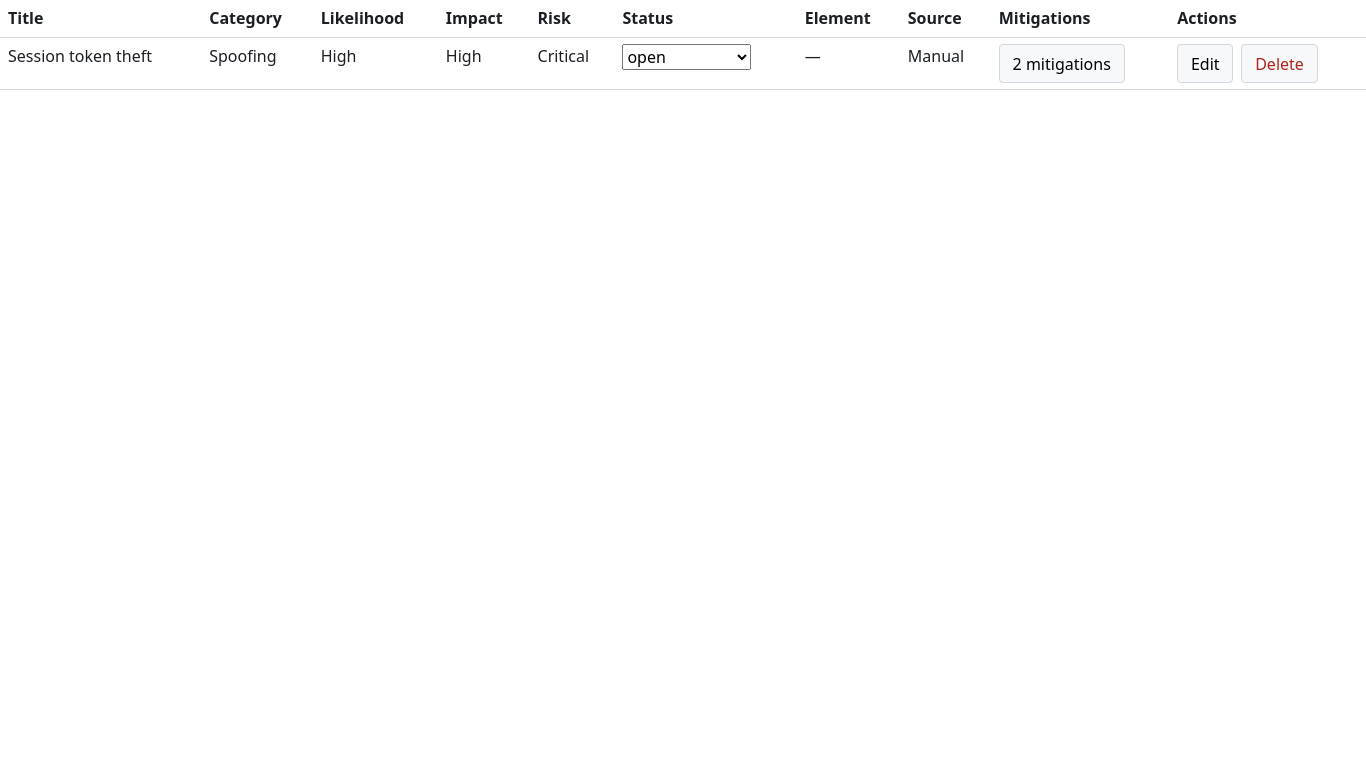
Test case: ThreatTable › deleting a threat › names the threat and the mitigations that go with it
Click the button with aria-label "Delete threat" at (1280, 64), box [1241,44,1318,83]
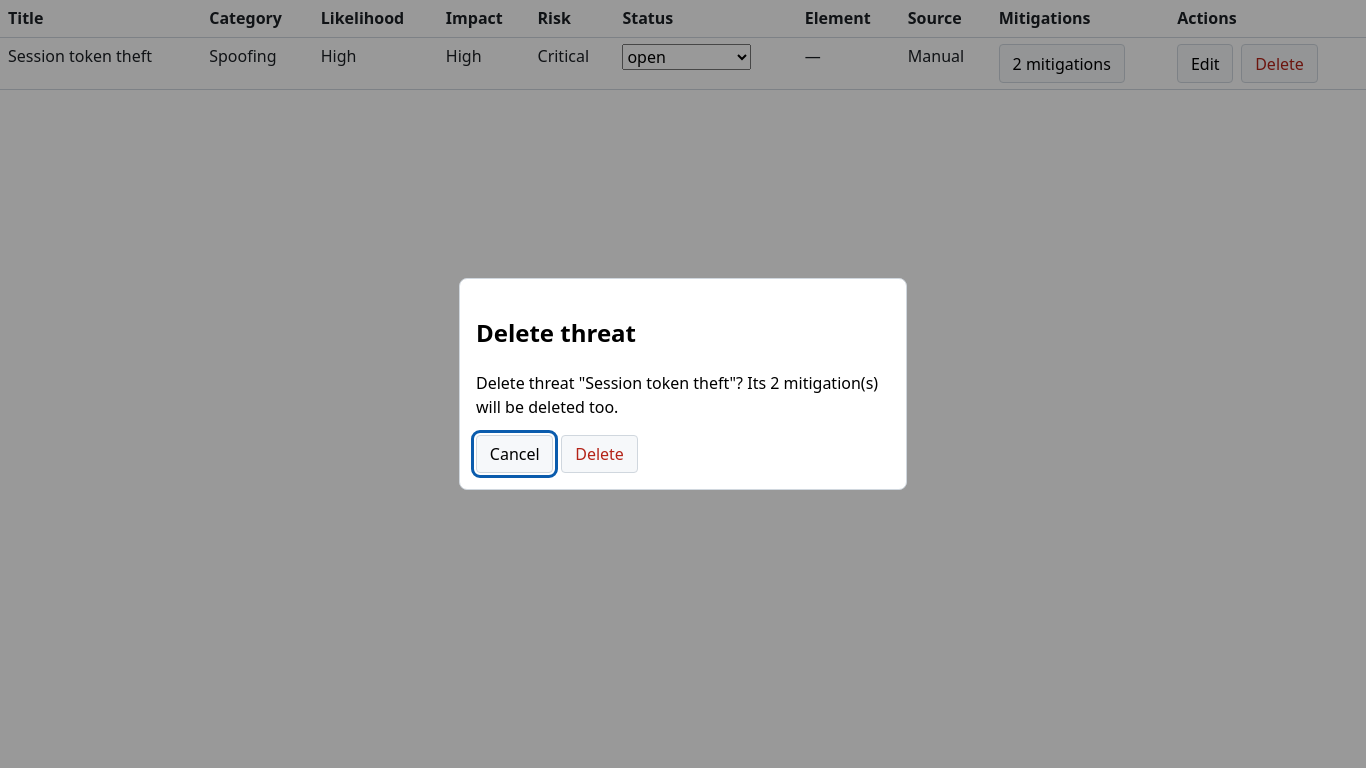
Expected: the text "Delete threat \"Session token theft\"? Its 2 mitigation(s) will be deleted too." is shown, [476,370,890,418]
